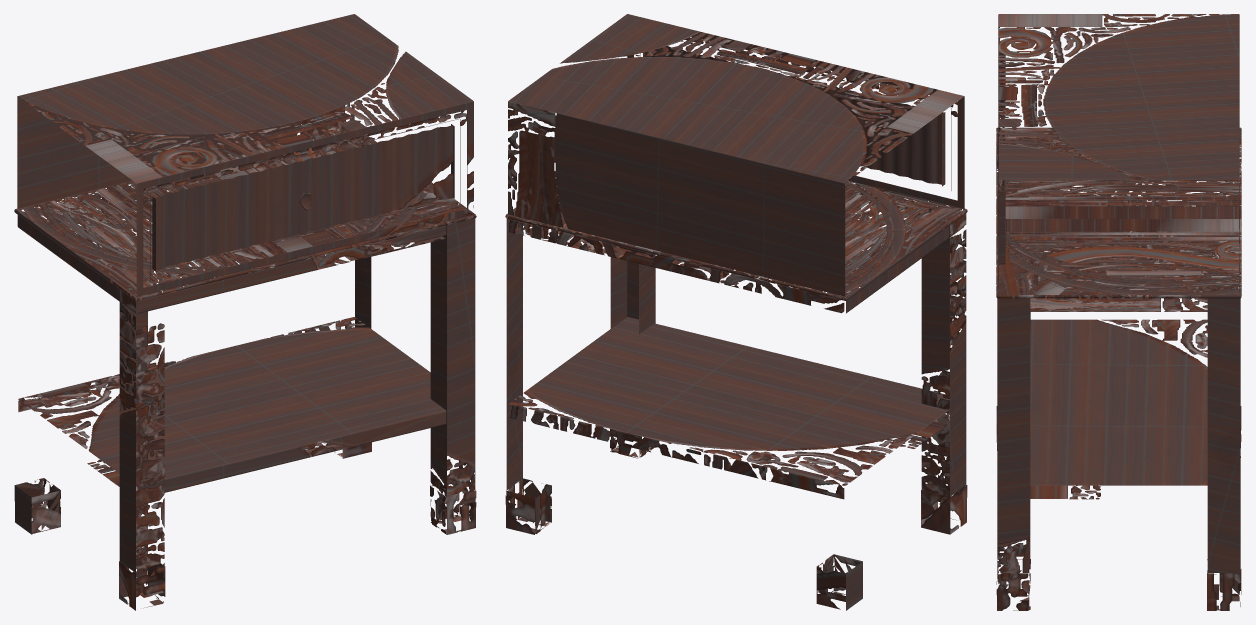
3 renders of one model, left to right at view 1: azimuth 30°, elevation 25°; view 2: azimuth 150°, elevation 25°; view 3: azimuth 270°, elevation 25°, orthographic.
Parts seen in each view (by area): view 1: solid_001, solid_002; view 2: solid_001, solid_002; view 3: solid_001, solid_002.
Part boxes in pixels (x1=…): solid_001: x1=14, y1=14, x2=476, y2=573; solid_002: x1=14, y1=442, x2=476, y2=610; solid_001: x1=505, y1=14, x2=967, y2=569; solid_002: x1=505, y1=429, x2=967, y2=610; solid_001: x1=996, y1=14, x2=1241, y2=572; solid_002: x1=996, y1=406, x2=1241, y2=610.
Bounding box in the file's own units: 1.18 × 1.41 × 0.7291.
